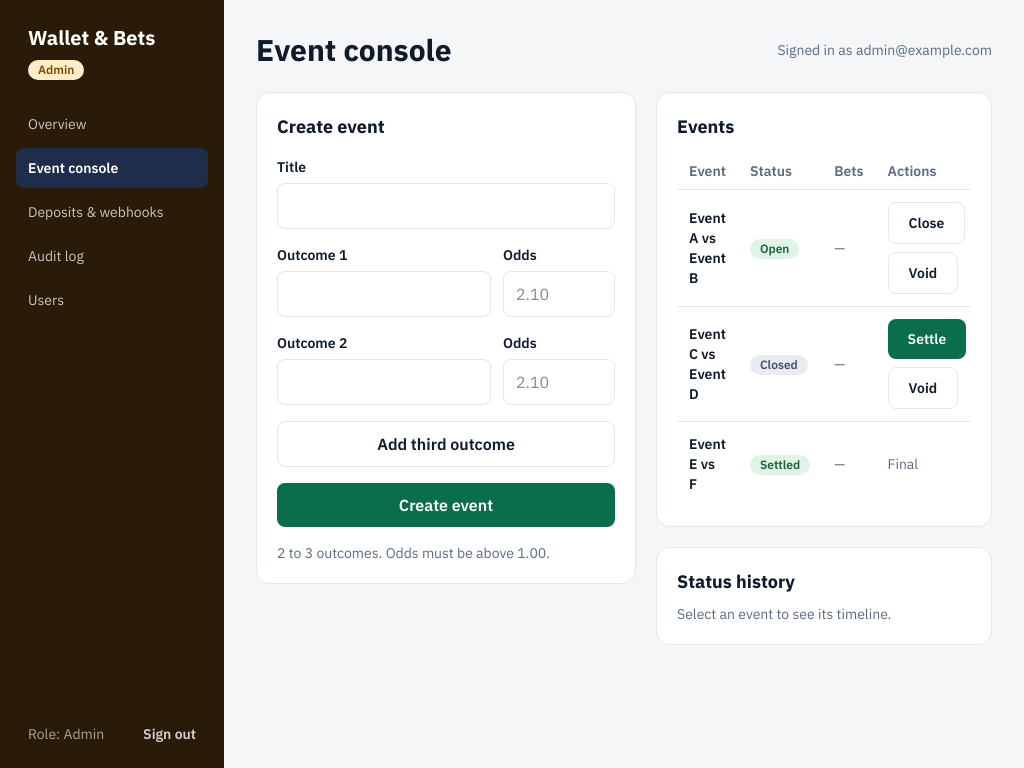
Test: Event console: list and actions › closes an open event
Click the button with aria-label "Close Event A vs Event B" at (926, 223), box top-left (888, 202), bottom-right (965, 244)
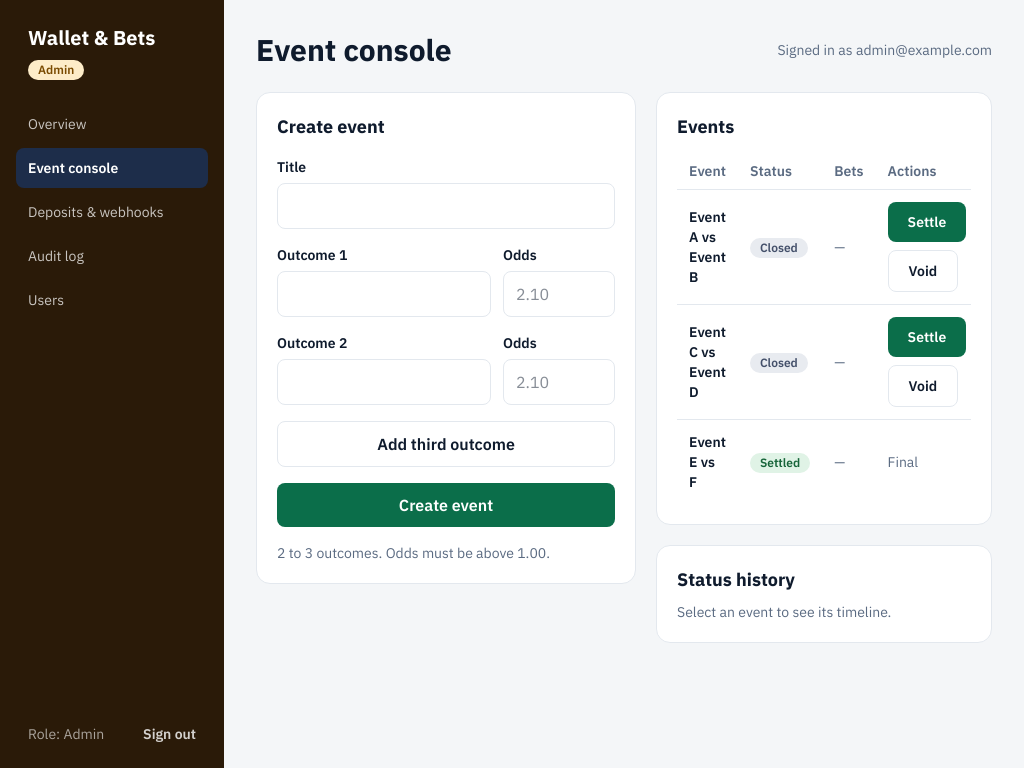
Result: the 1st text "Closed" is shown at top-left (750, 238), bottom-right (808, 258)
Result: the button with aria-label "Settle Event A vs Event B" is shown at top-left (888, 202), bottom-right (966, 242)
